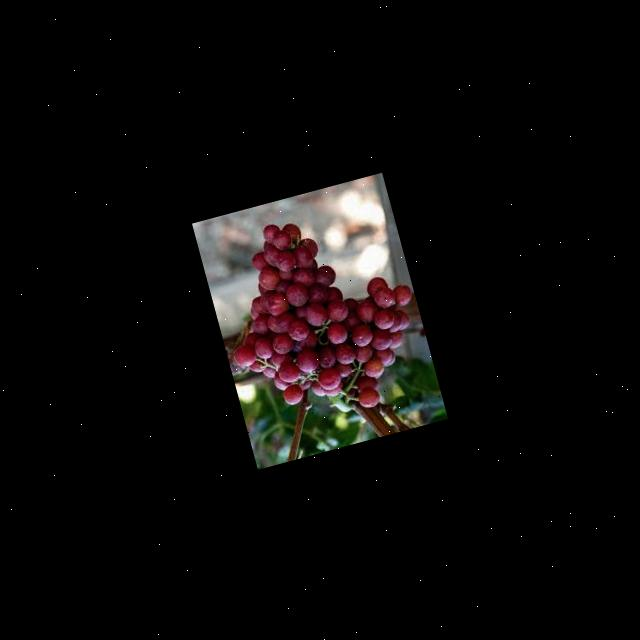grape: (202, 194, 438, 438)
